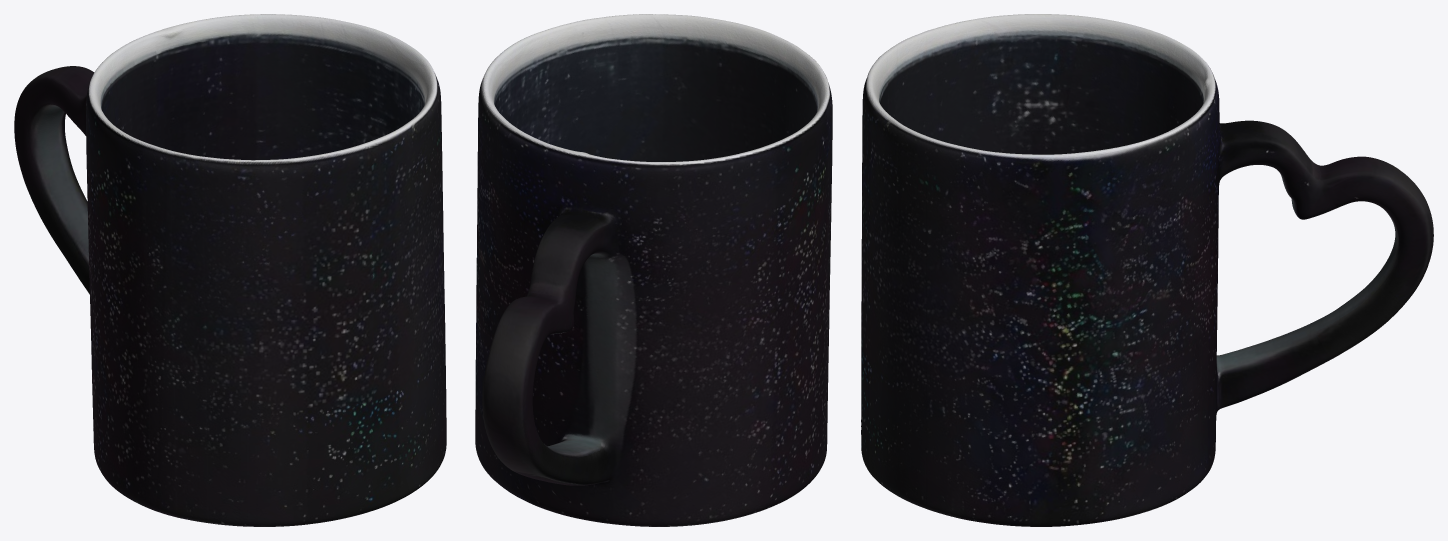
File: mug_heart_texture.glb
3 renders of one model, left to right at view 1: azimuth 30°, elevation 25°; view 2: azimuth 150°, elevation 25°; view 3: azimuth 270°, elevation 25°, orthographic.
Visible parts, largest first — view 1: tripo_node_264049af-237c-4e7e-b155-a7fc4877fc69; view 2: tripo_node_264049af-237c-4e7e-b155-a7fc4877fc69; view 3: tripo_node_264049af-237c-4e7e-b155-a7fc4877fc69.
Boxes of the visible parts, x1,y1,x2,y2 form: tripo_node_264049af-237c-4e7e-b155-a7fc4877fc69: [14, 14, 446, 526]; tripo_node_264049af-237c-4e7e-b155-a7fc4877fc69: [475, 14, 832, 526]; tripo_node_264049af-237c-4e7e-b155-a7fc4877fc69: [861, 14, 1433, 526].
Bounding box in the file's own units: 0.6354 × 0.7265 × 1.
1 material, 1 textured.
